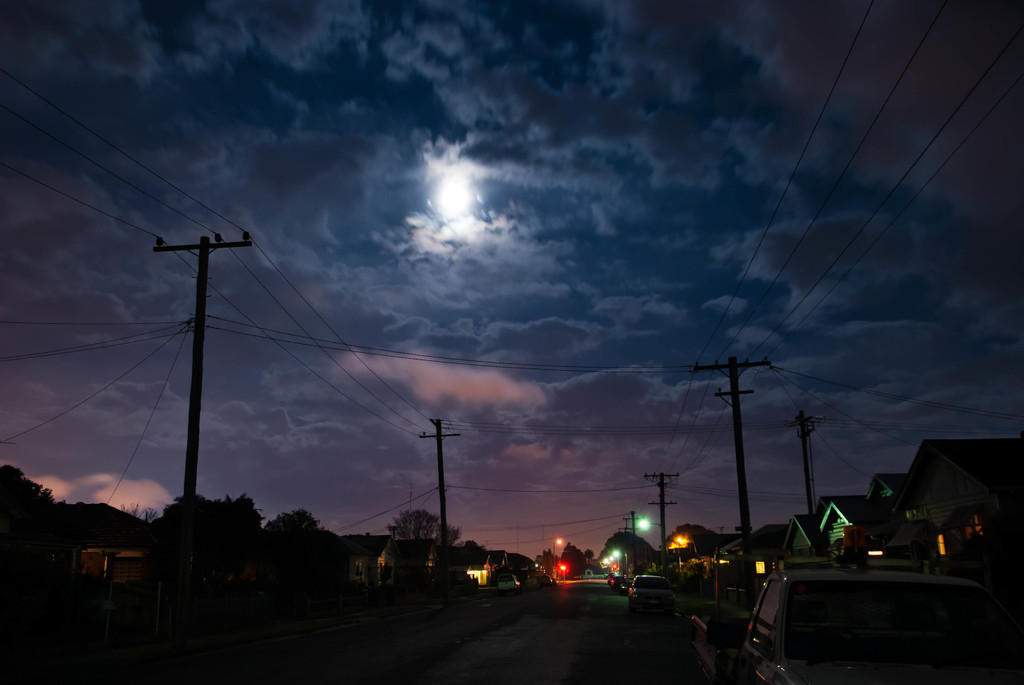Car: (606, 527, 1017, 684), (629, 578, 675, 610), (612, 579, 627, 590)
